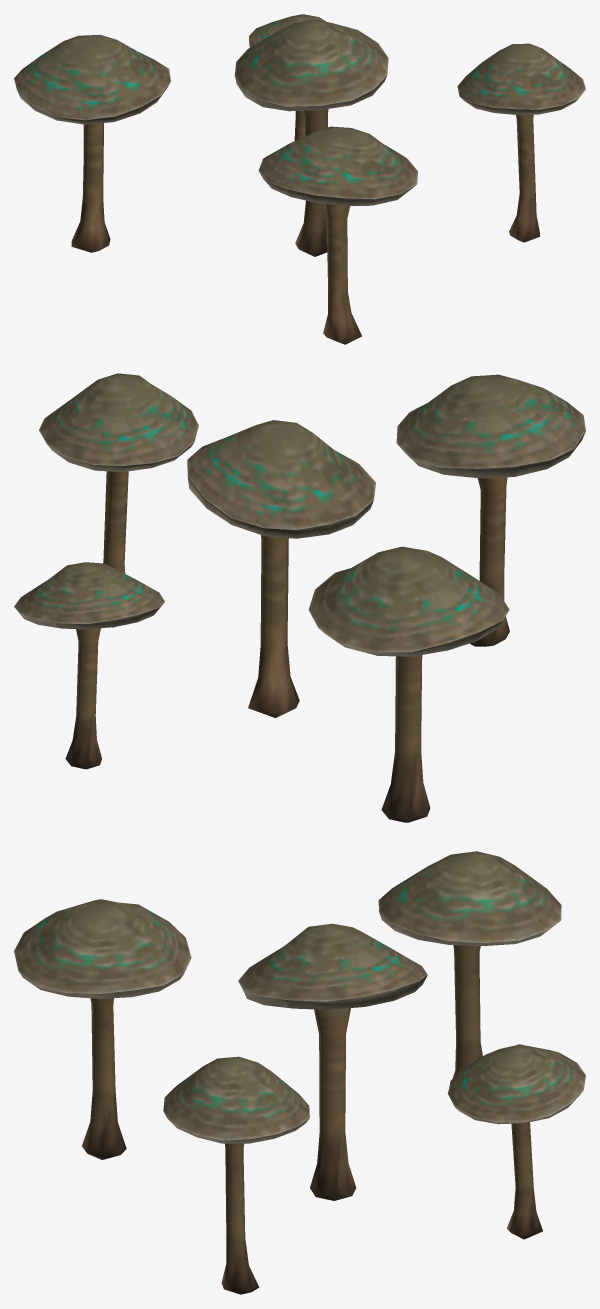
Rendered from Mushroom_04_Group_01.fbx.
3 views of the same model, one above another, from view 1: azimuth 30°, elevation 25°; view 2: azimuth 150°, elevation 25°; view 3: azimuth 270°, elevation 25° (orthographic). The views are drawn at different scales.
Parts seen in each view (by area): view 1: Mushroom_04_Group_01_LOD0; view 2: Mushroom_04_Group_01_LOD0; view 3: Mushroom_04_Group_01_LOD0.
Part boxes in pixels (box(x1,y1,x2,y2)): Mushroom_04_Group_01_LOD0: box(14, 14, 585, 344); Mushroom_04_Group_01_LOD0: box(14, 373, 585, 822); Mushroom_04_Group_01_LOD0: box(14, 851, 585, 1294).
Size of what is drawn, in the model's own units: 0.6195 by 0.3067 by 0.5808.
